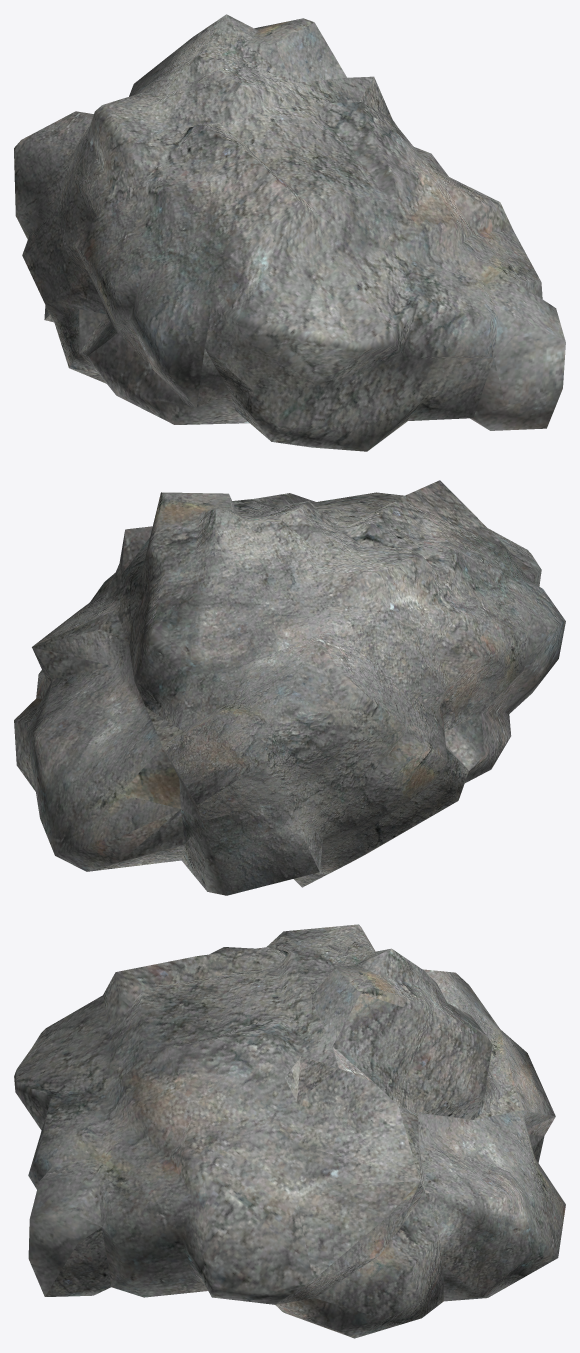
Rendered from BigRock5.glb.
3 renders of one model, top to bottom at view 1: azimuth 30°, elevation 25°; view 2: azimuth 150°, elevation 25°; view 3: azimuth 270°, elevation 25°, orthographic. The views are drawn at different scales.
Visible parts, largest first — view 1: BigRockE; view 2: BigRockE; view 3: BigRockE.
Boxes of the visible parts, left/top/right/bottom form: BigRockE: left=14, top=14, right=565, bottom=451; BigRockE: left=14, top=480, right=565, bottom=895; BigRockE: left=14, top=924, right=565, bottom=1338.
Size of the model in its own units: 4.76 by 3.73 by 5.57.
1 material, 1 textured.
